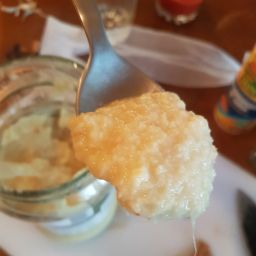Ginger garlic paste: (61, 90, 218, 221), (94, 112, 206, 199)
